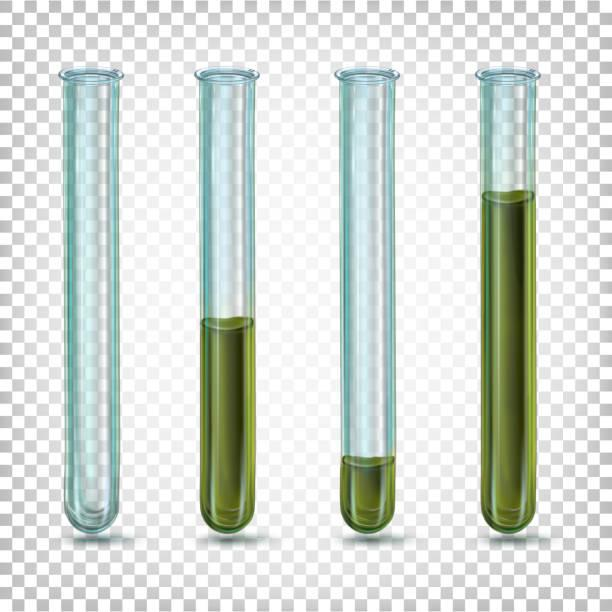Test tube: (471, 49, 550, 563), (323, 53, 405, 546), (50, 56, 128, 565), (194, 60, 269, 555)
